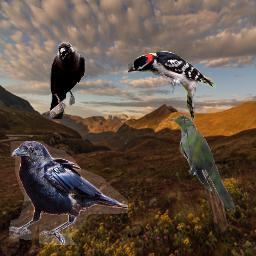Crow: (9, 141, 128, 245), (49, 42, 85, 119)
Cuckoo: (170, 115, 238, 211)
Woodpecker: (128, 50, 216, 122)
